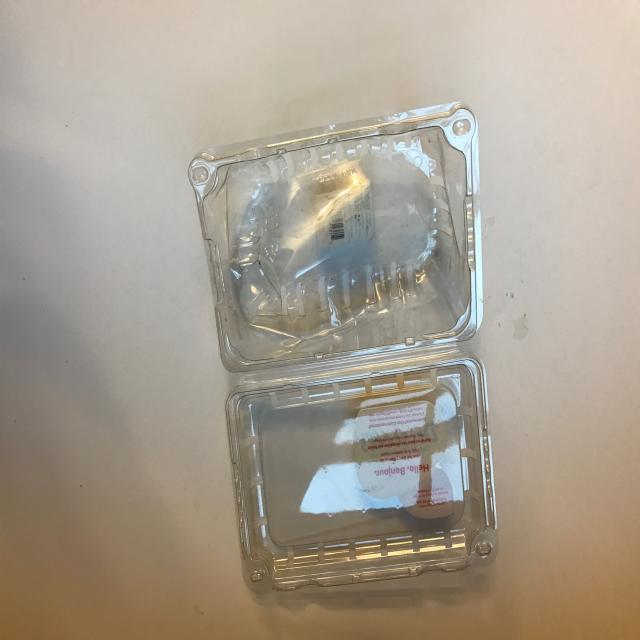plastic: (186, 102, 502, 596)
